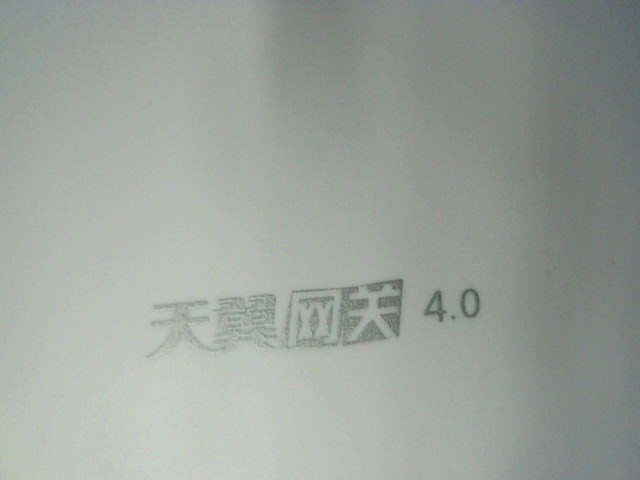BM_TianYiWangGuan: (135, 266, 499, 371)
